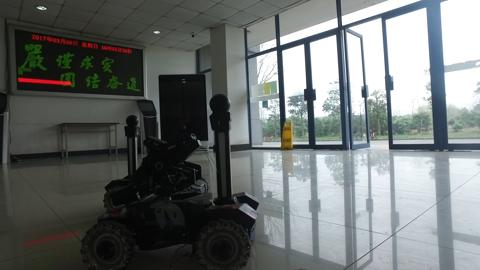chariot: (75, 89, 258, 268), (96, 111, 206, 204)
